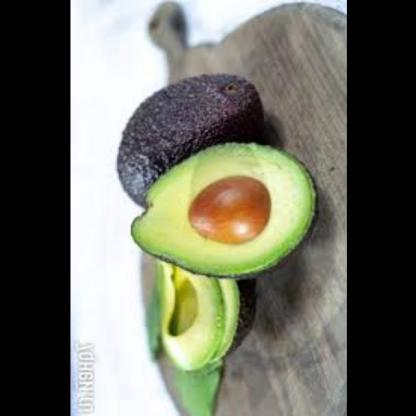avocado: (109, 142, 330, 275), (102, 70, 265, 204), (133, 271, 254, 363)
